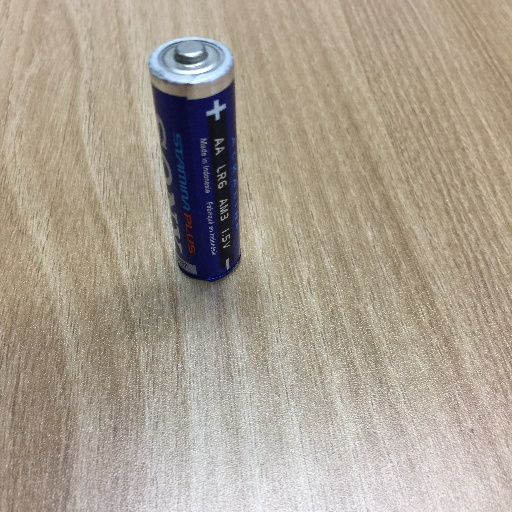Battery_0: (143, 30, 258, 301)
